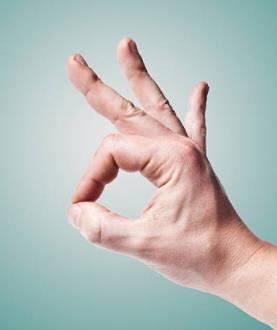left: (62, 37, 228, 289)
